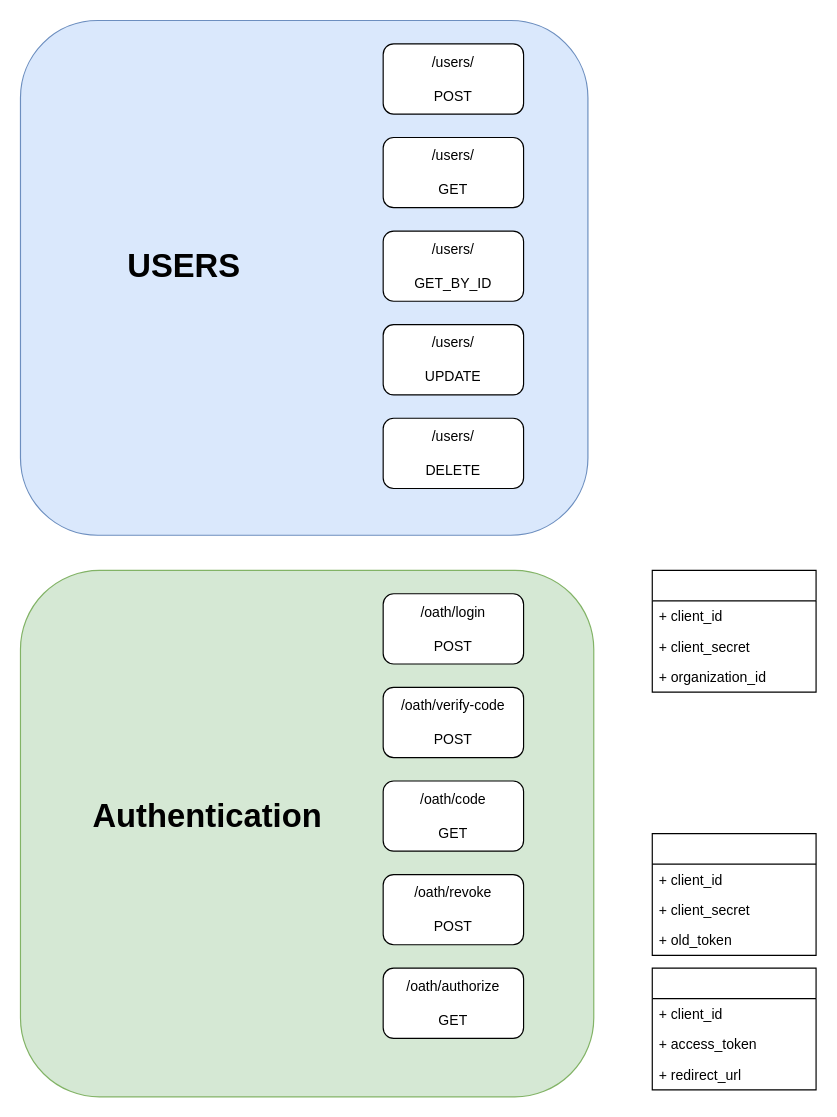
Some shapes in this 837 by 1117 pixel diagram are drawn without their labels. Here are the shapes that lost their labels. From the top down, the box of each, then its label:
(651, 569, 816, 692): Login
(651, 832, 816, 955): Revoke
(651, 967, 816, 1090): Authorize
